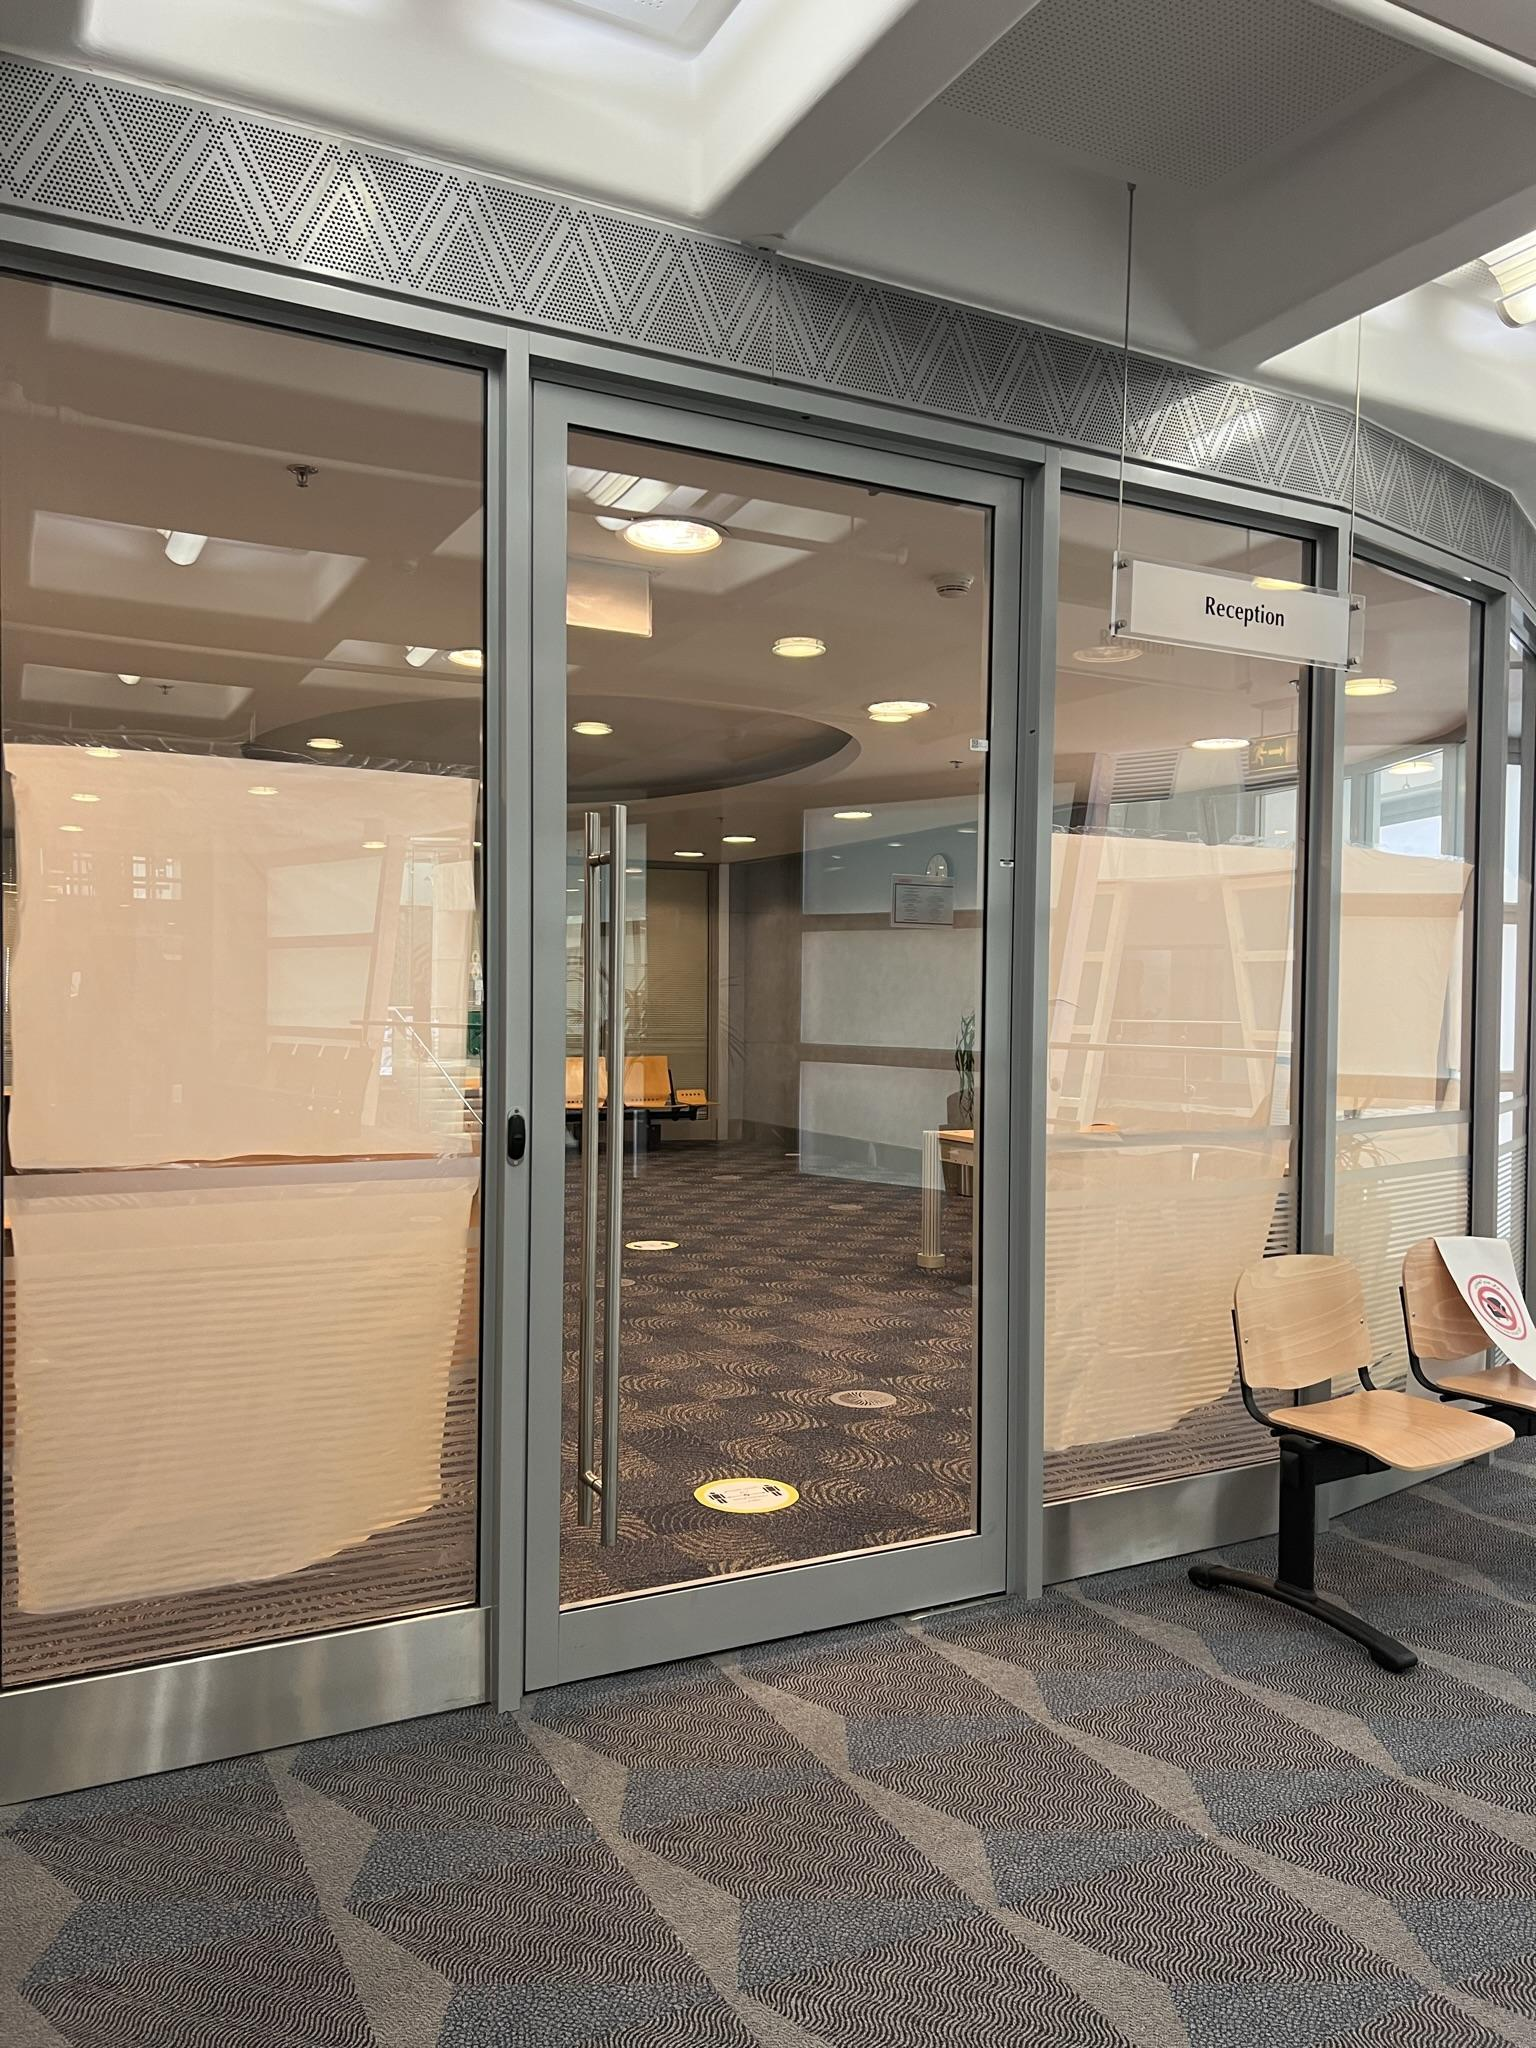door: (532, 361, 1025, 1666)
handle: (592, 801, 632, 1550)
